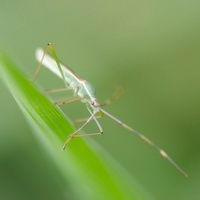insect: (33, 43, 187, 176)
